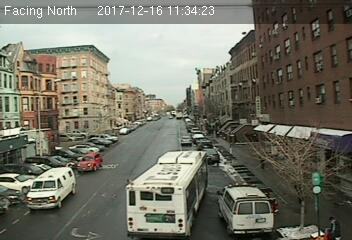bus: (125, 149, 210, 236)
car: (76, 152, 102, 170), (180, 134, 193, 146)
police: (215, 181, 276, 235)
truck: (25, 167, 75, 211)
